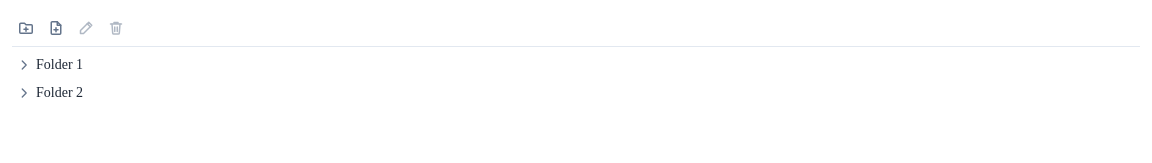
Direactree › creates a node from the editor with Enter and cancels with Escape
Click the button named "Create Folder".
click(26, 28)  # box left=12, top=14, right=40, bottom=42
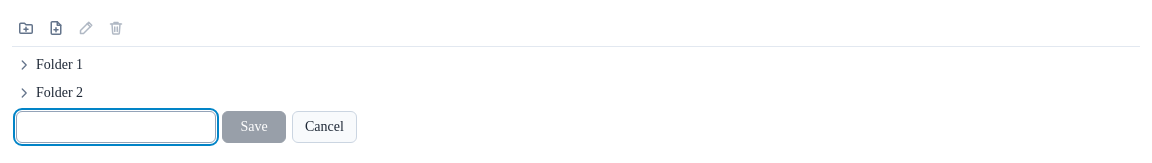
Type "Notes" into the field named "New folder name".
click(116, 127); type("Notes")  # box left=16, top=111, right=216, bottom=143
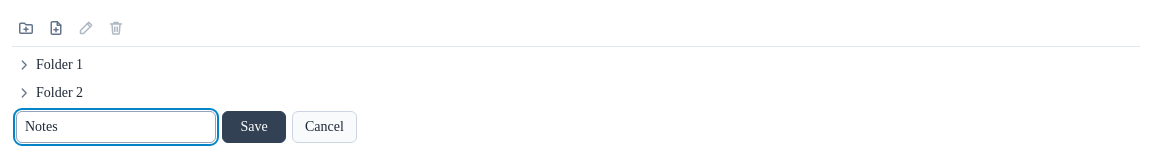
Press Enter in the field named "New folder name", box left=16, top=111, right=216, bottom=143
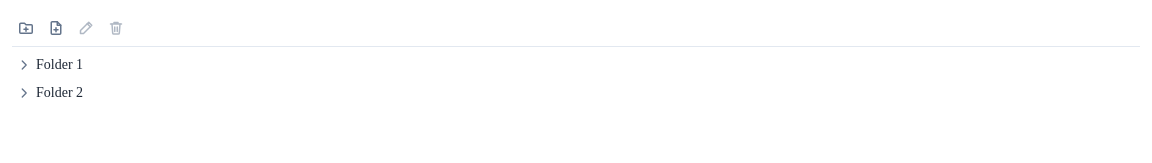
Now the field is gone
Click the button named "Create File".
click(56, 28)  # box left=42, top=14, right=70, bottom=42
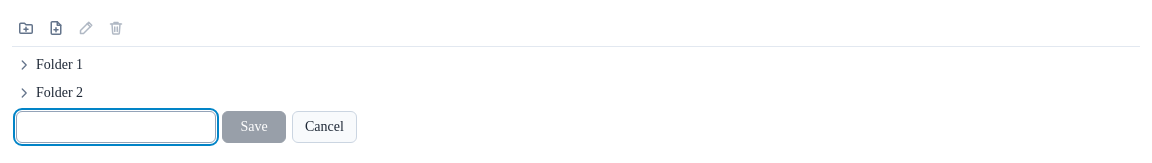
Type "draft.txt" into the field named "New file name".
click(116, 127); type("draft.txt")  # box left=16, top=111, right=216, bottom=143
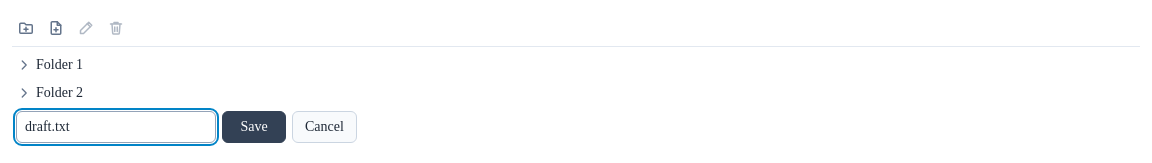
Press Escape in the field named "New file name", box left=16, top=111, right=216, bottom=143
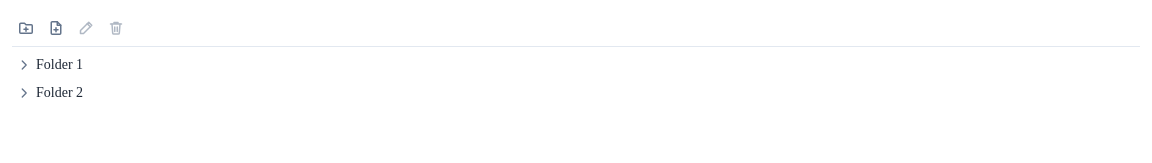
Now the field is gone
